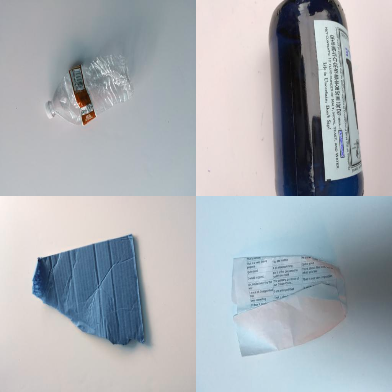cardboard: (31, 234, 146, 346)
glass: (267, 1, 365, 195)
paper: (231, 256, 350, 356)
plastic: (44, 51, 136, 128)
